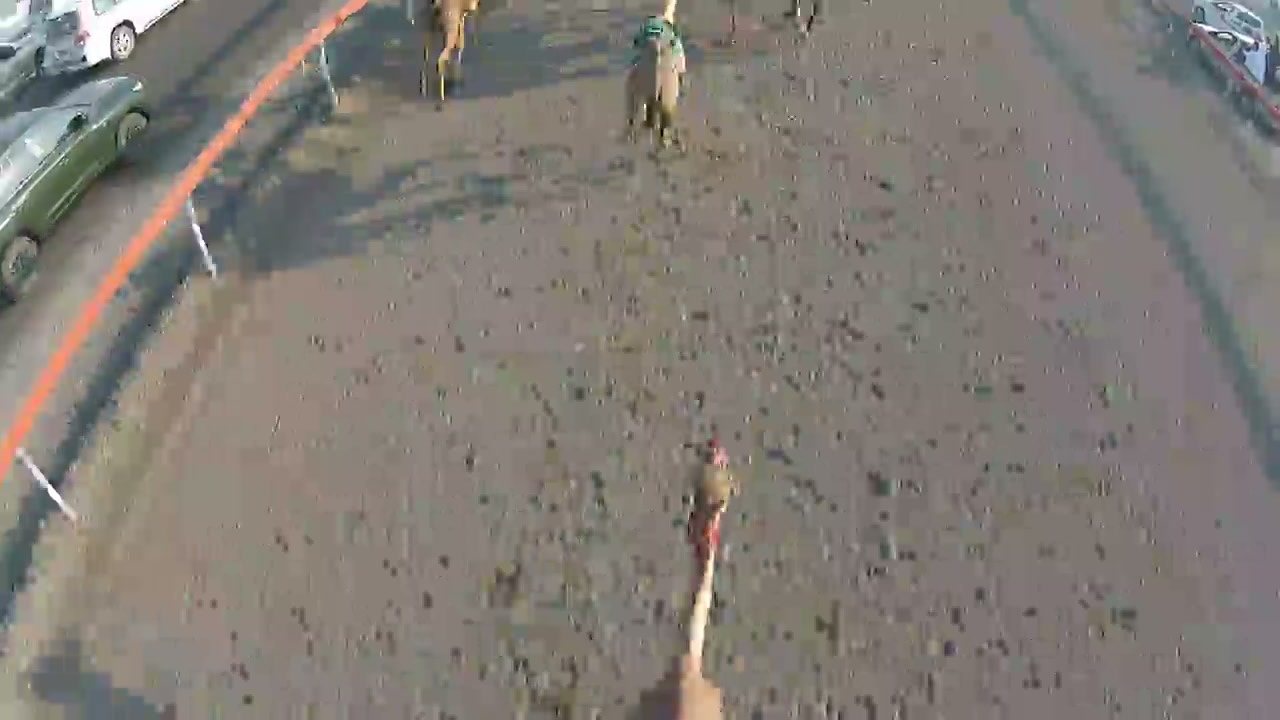animal_foot_print: (240, 122, 1130, 719)
